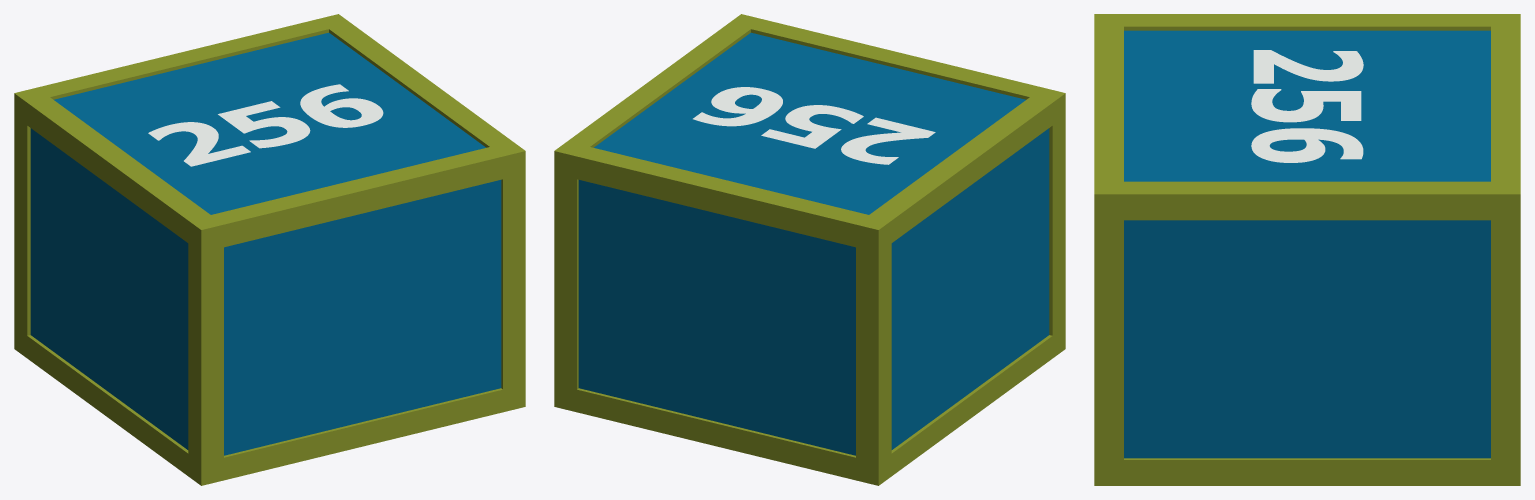
File: 256Prefab.fbx
3 views of the same model, side by side, from view 1: azimuth 30°, elevation 25°; view 2: azimuth 150°, elevation 25°; view 3: azimuth 270°, elevation 25° (orthographic). The views are drawn at different scales.
Parts seen in each view (by area): view 1: Text.012; view 2: Text.012; view 3: Text.012.
Part boxes in pixels (x1=…): Text.012: x1=14, y1=14, x2=525, y2=485; Text.012: x1=554, y1=14, x2=1065, y2=485; Text.012: x1=1094, y1=14, x2=1520, y2=485.
Size of the model in its own units: 194 by 146 by 194.
